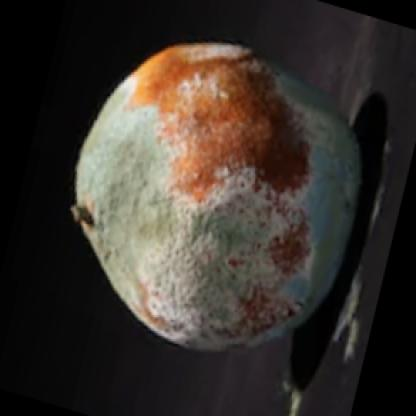rotten: (78, 43, 363, 356)
